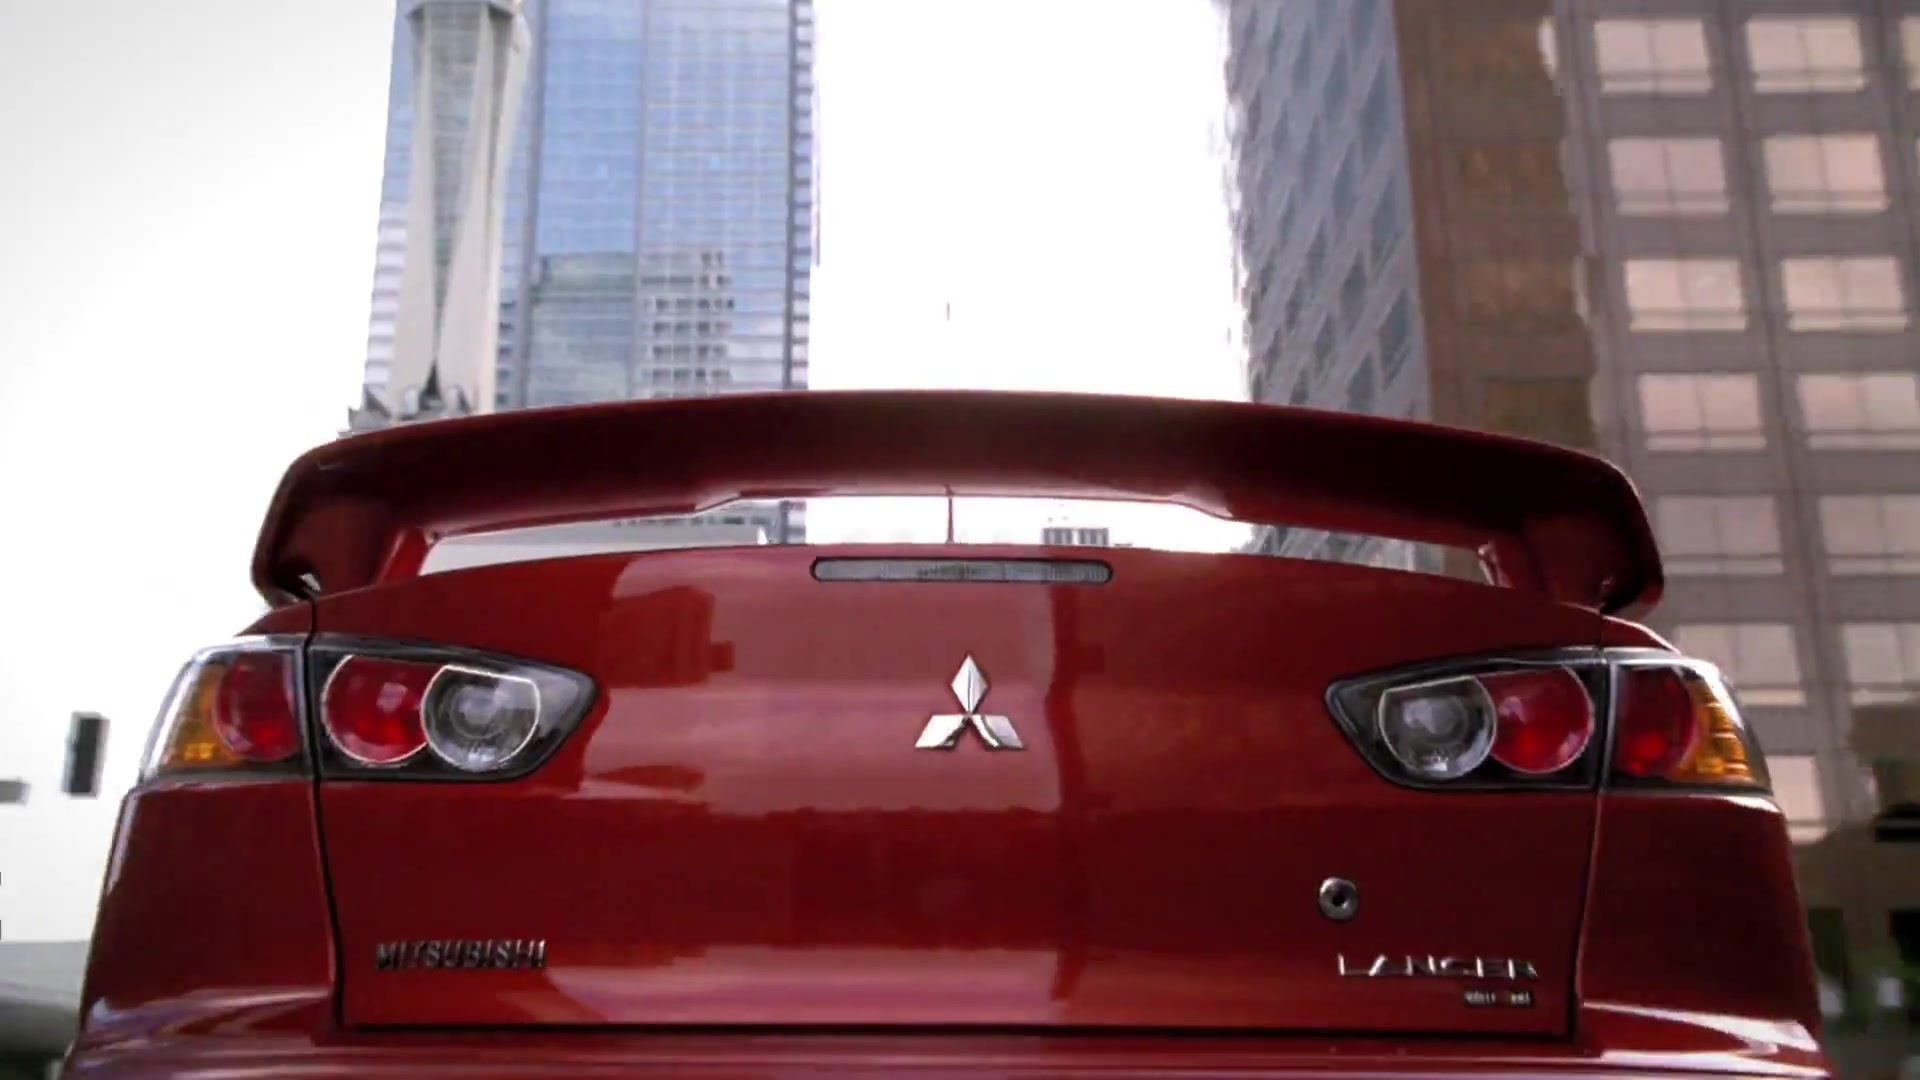car: (3, 382, 1917, 1080)
